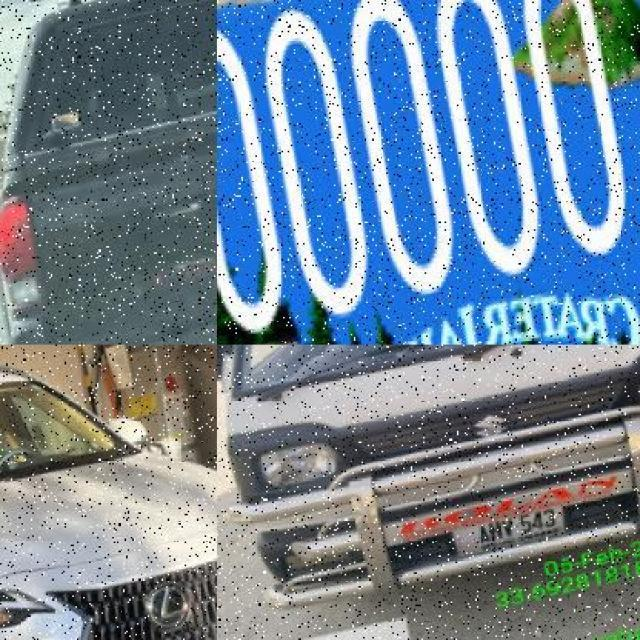LicensePlate: (217, 0, 640, 345), (442, 505, 573, 567)
